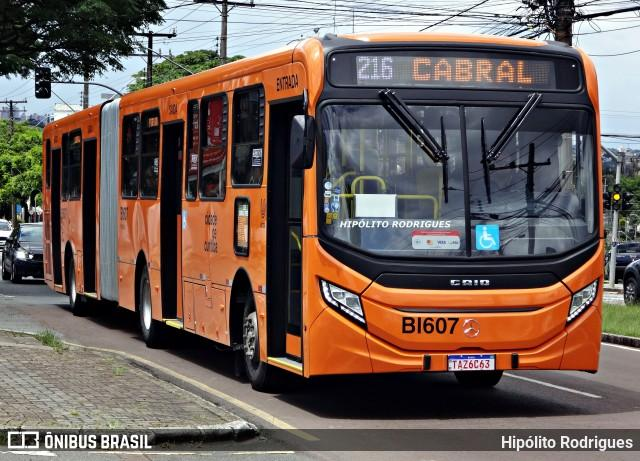CABRAL: (408, 51, 535, 86)
